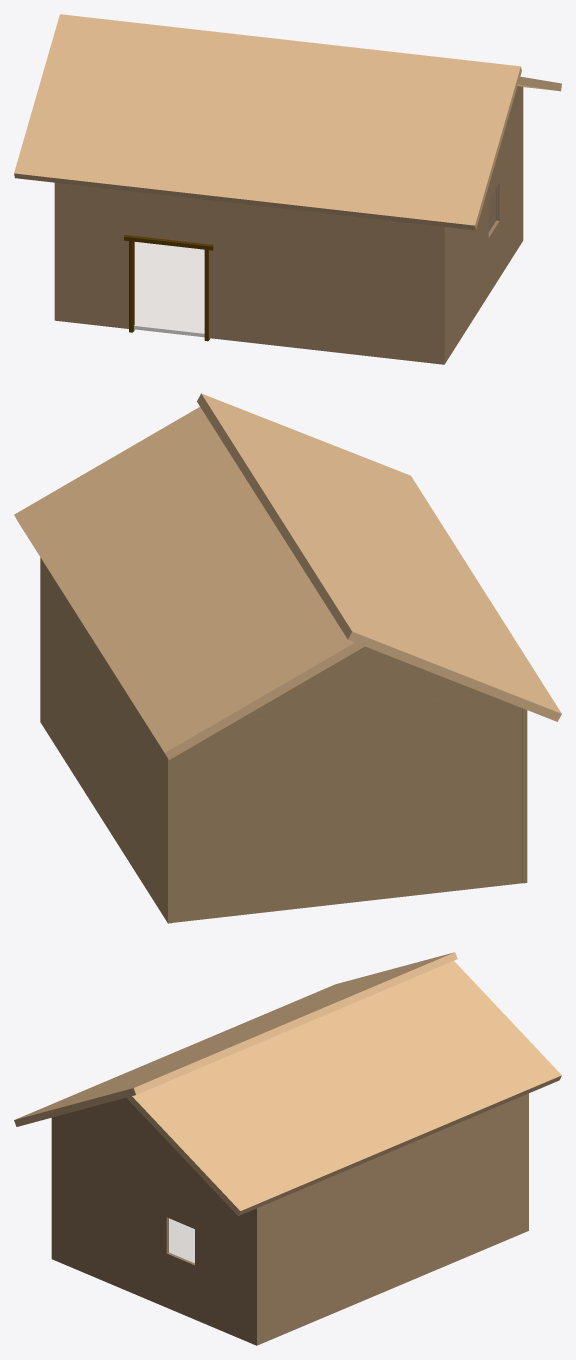
The model's file is House.fbx.
3 renders of one model, top to bottom at view 1: azimuth 30°, elevation 25°; view 2: azimuth 150°, elevation 25°; view 3: azimuth 270°, elevation 25°, orthographic. The views are drawn at different scales.
Visible parts, largest first — view 1: HouseRoof1, HouseWall1, HouseWall4, HouseFloor, DoorFrame2, DoorFrame1, DoorFrame3; view 2: HouseWall3, HouseRoof2, HouseRoof1, HouseWall2, HouseWall6, HouseWall1; view 3: HouseRoof2, HouseWall2, HouseWall4, HouseRoof1, HouseWall5, HouseFloor.
Part boxes in pixels (box(x1,y1,x2,y2)): HouseRoof1: box(14, 14, 521, 230); HouseWall1: box(54, 182, 444, 364); HouseWall4: box(444, 87, 522, 363); HouseFloor: box(134, 242, 204, 337); DoorFrame2: box(124, 235, 213, 250); DoorFrame1: box(129, 241, 134, 332); DoorFrame3: box(204, 249, 210, 341); HouseWall3: box(172, 694, 522, 922); HouseRoof2: box(14, 407, 367, 759); HouseRoof1: box(197, 393, 561, 721); HouseWall2: box(40, 557, 172, 923); HouseWall6: box(235, 646, 485, 722); HouseWall1: box(522, 708, 527, 883); HouseRoof2: box(125, 961, 561, 1215); HouseWall2: box(256, 1093, 528, 1345); HouseWall4: box(52, 1114, 255, 1345); HouseRoof1: box(14, 952, 457, 1126); HouseWall5: box(65, 1098, 196, 1172); HouseFloor: box(169, 1218, 194, 1263).
Bounding box in the file's own units: 206 × 94.75 × 206.
